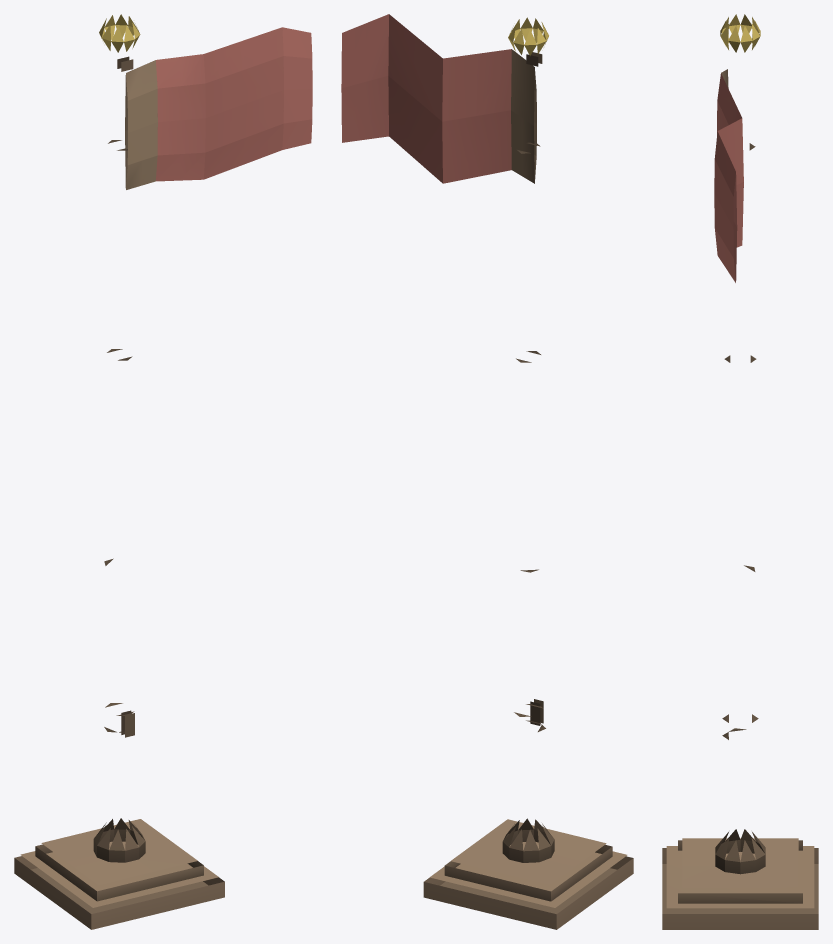
The model's file is flag.lod.glb.
The picture shows the model from 3 angles, left to right: view 1: azimuth 30°, elevation 25°; view 2: azimuth 150°, elevation 25°; view 3: azimuth 270°, elevation 25°; orthographic projection.
Visible parts, largest first — view 1: flag.001; view 2: flag.001; view 3: flag.001.
Part boxes in pixels (<box>): flag.001: <box>14,14,312,929</box>; flag.001: <box>341,14,633,929</box>; flag.001: <box>662,14,818,929</box>.
Bounding box in the file's own units: 2.69 × 8.68 × 1.4.
